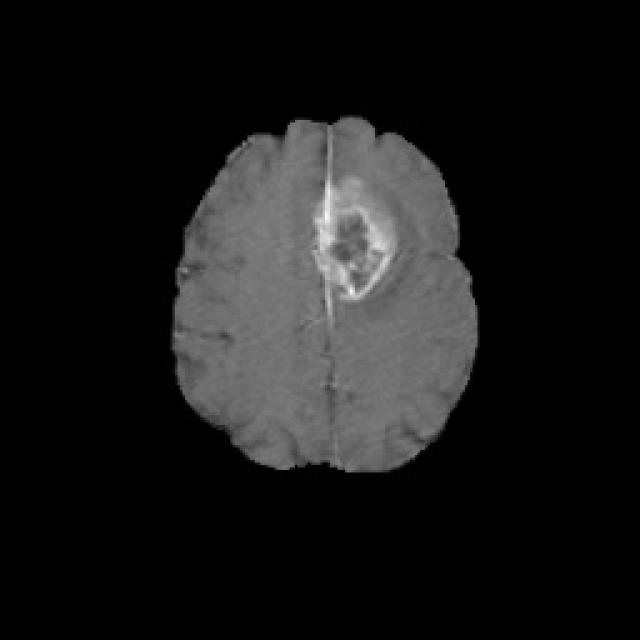negative: (314, 176, 396, 302)
